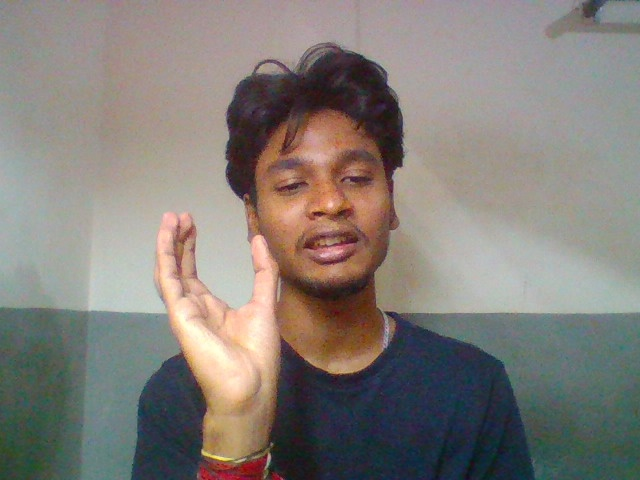U: (135, 206, 299, 448)
